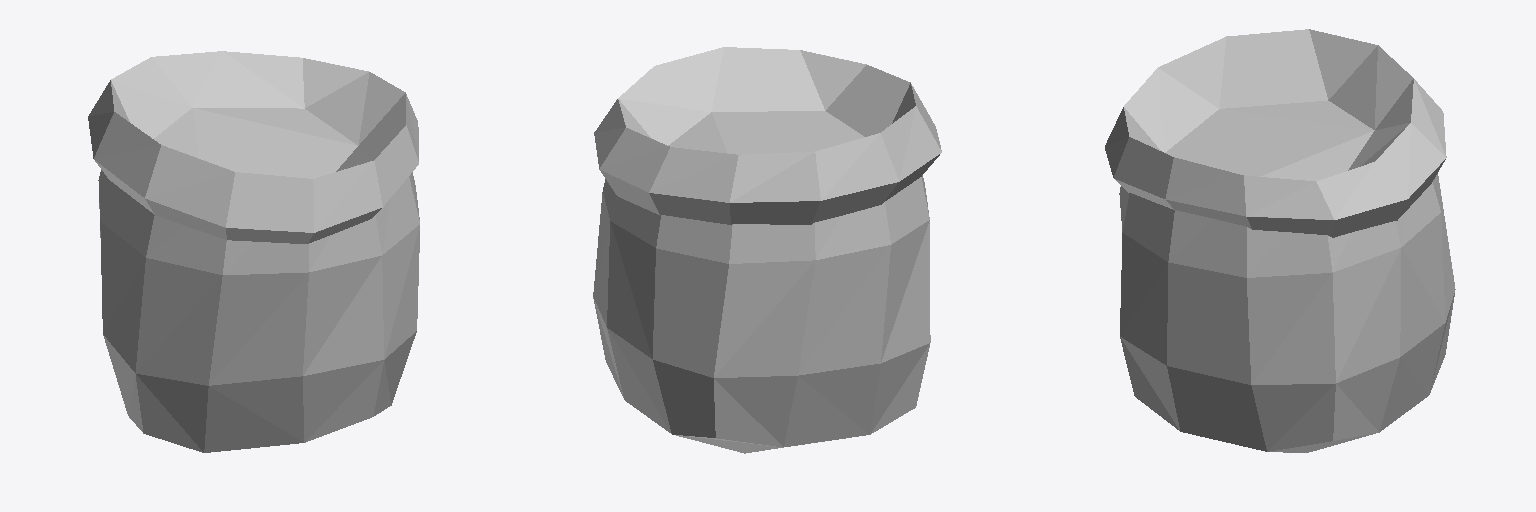
The model's file is bag_004.obj.
3 views of the same model, side by side, from view 1: azimuth 30°, elevation 25°; view 2: azimuth 150°, elevation 25°; view 3: azimuth 270°, elevation 25° (orthographic).
Visible parts, largest first — view 1: bag_004; view 2: bag_004; view 3: bag_004.
Boxes of the visible parts, <box> form: bag_004: <box>88,51,419,452</box>; bag_004: <box>593,47,941,453</box>; bag_004: <box>1105,29,1455,452</box>.
Size of the model in its own units: 0.5327 by 0.5712 by 0.5514.